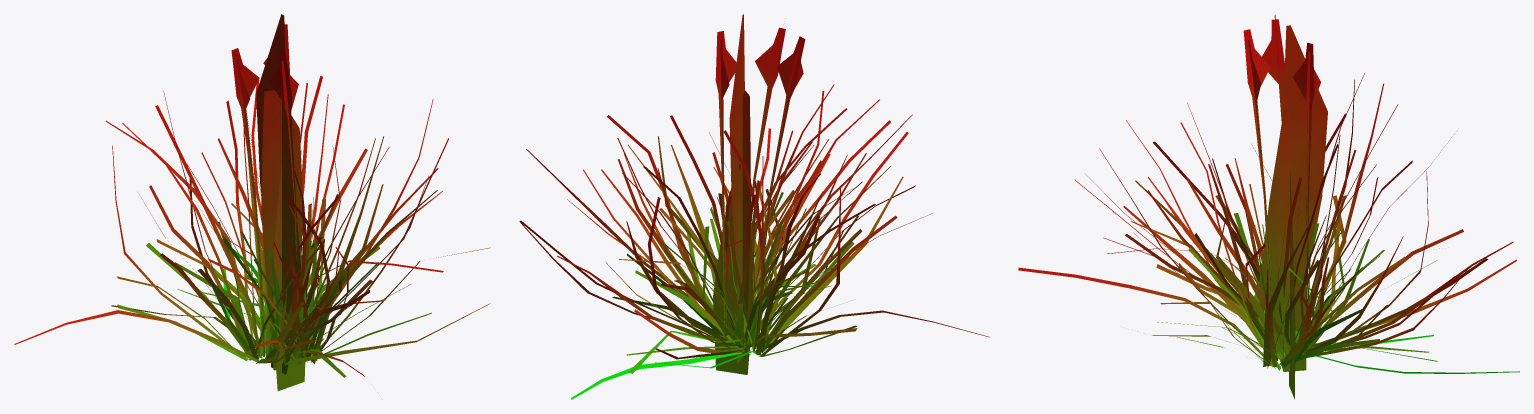
The model's file is Var2_LOD3.fbx.
3 renders of one model, left to right at view 1: azimuth 30°, elevation 25°; view 2: azimuth 150°, elevation 25°; view 3: azimuth 270°, elevation 25°, orthographic. The views are drawn at different scales.
Visible parts, largest first — view 1: _yv4q_Var2_LOD3; view 2: _yv4q_Var2_LOD3; view 3: _yv4q_Var2_LOD3.
Part boxes in pixels (<box>): _yv4q_Var2_LOD3: <box>14,14,489,390</box>; _yv4q_Var2_LOD3: <box>519,14,989,399</box>; _yv4q_Var2_LOD3: <box>1018,14,1519,399</box>.
Size of the model in its own units: 49.8 by 39.52 by 49.55.
